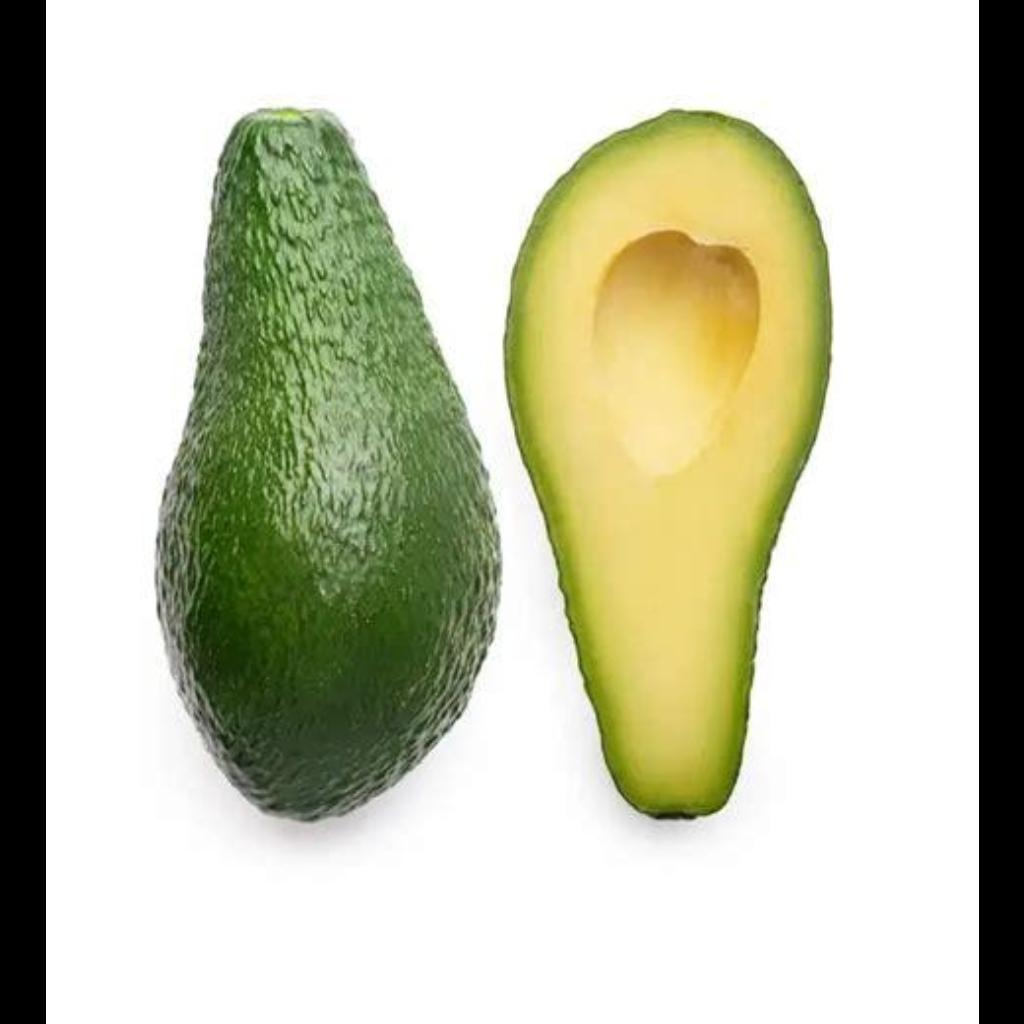fruto_sano: (132, 82, 508, 840), (502, 92, 849, 840)
